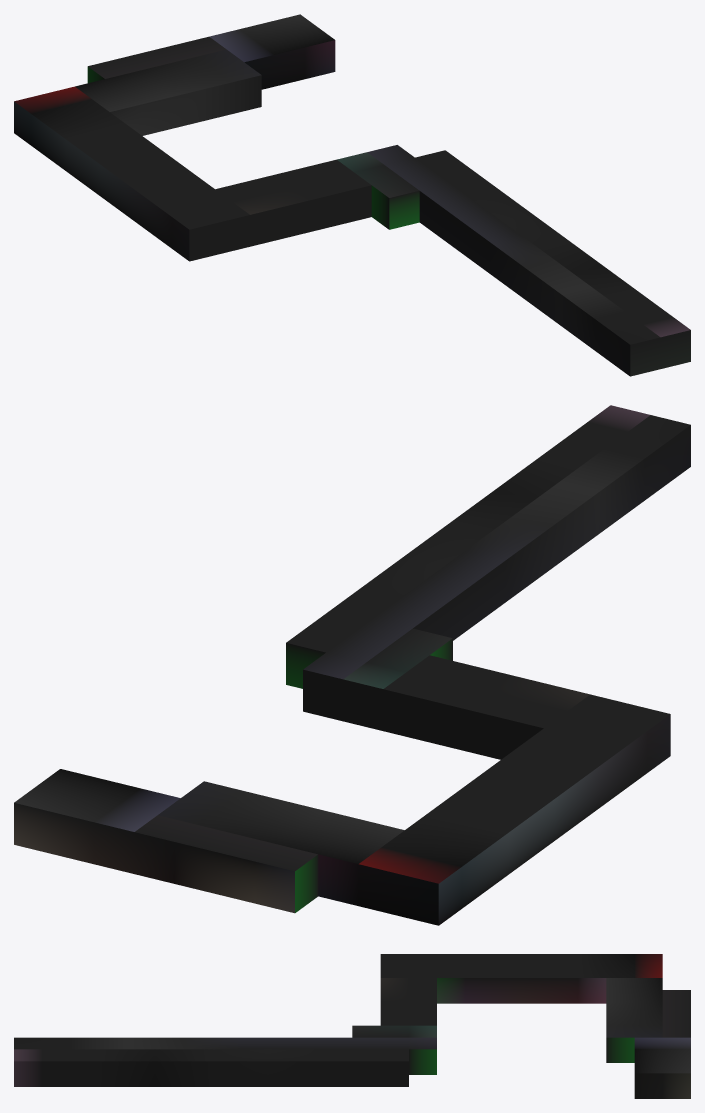
File: Cable_L_00.fbx
3 views of the same model, one above another, from view 1: azimuth 30°, elevation 25°; view 2: azimuth 150°, elevation 25°; view 3: azimuth 270°, elevation 25° (orthographic). The views are drawn at different scales.
Parts seen in each view (by area): view 1: Cable_L_00; view 2: Cable_L_00; view 3: Cable_L_00.
Part boxes in pixels (x1,y1,x2,y2): Cable_L_00: (14, 14, 690, 376); Cable_L_00: (14, 405, 690, 925); Cable_L_00: (14, 954, 690, 1098).
Size of the model in its own units: 50 by 5 by 120.
